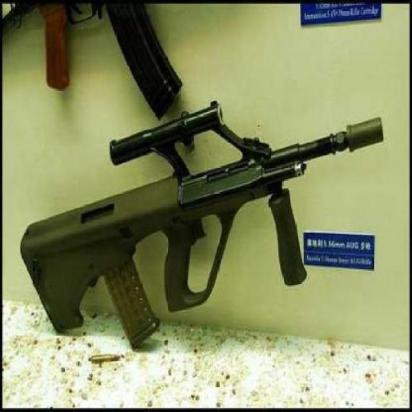Gun: (17, 78, 388, 353)
